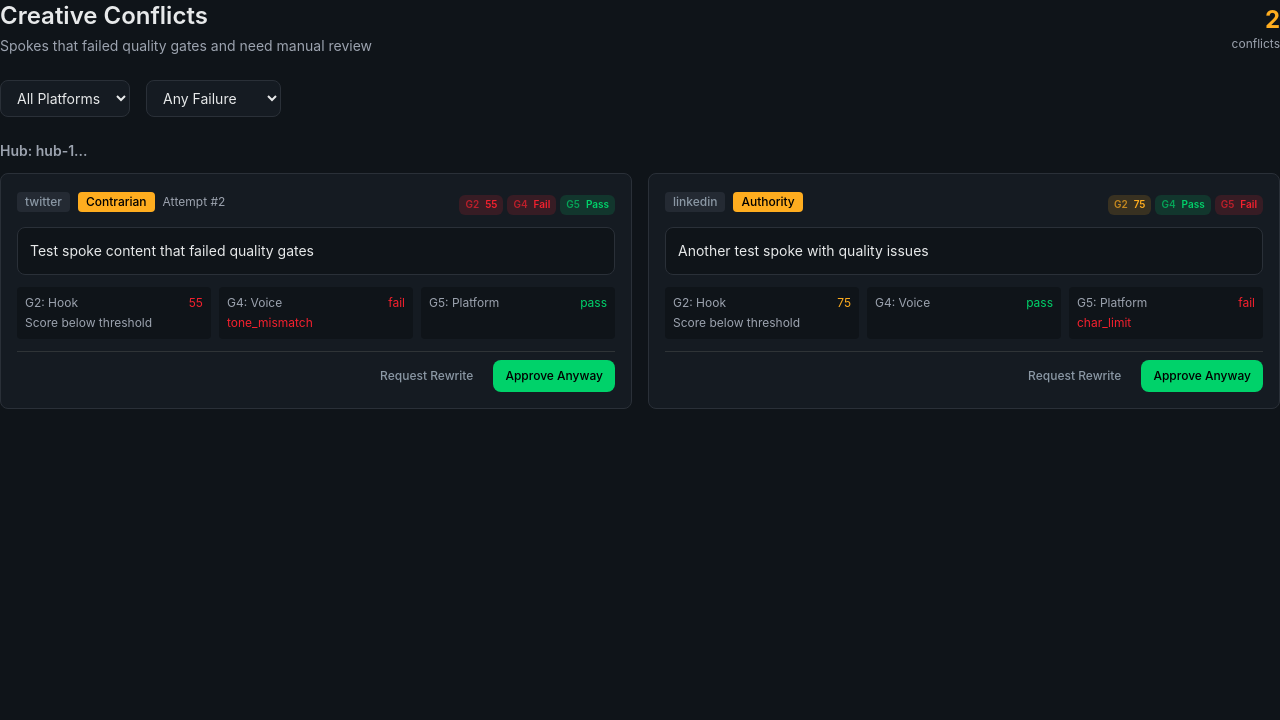
Test: CreativeConflictsPage › Feedback Modal › enables submit when feedback is entered
Click the button "Request Rewrite" below "tone_mismatch" at {"x": 427, "y": 376}, box [368, 360, 485, 392]
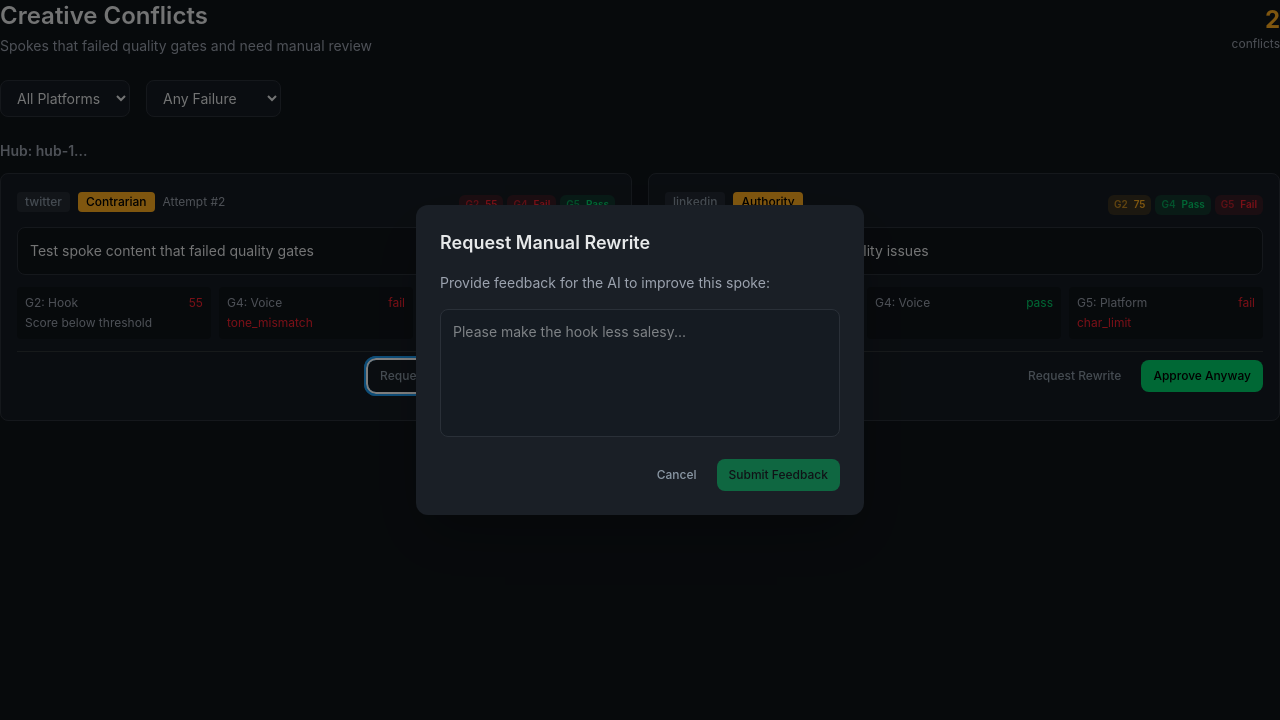
Type "Improve the hook" into the text box with placeholder "Please make the hook less salesy..." at {"x": 640, "y": 373}, box [440, 309, 840, 437]
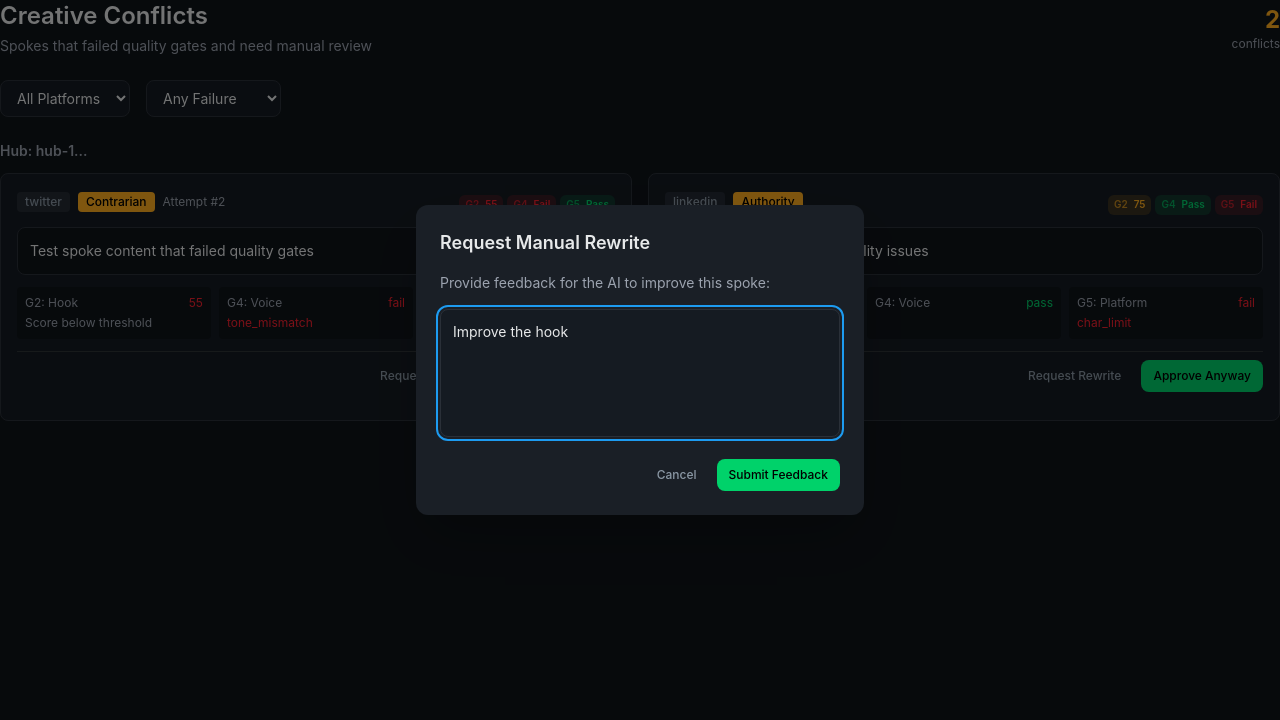
Now the button "Submit Feedback" is enabled, box [716, 459, 840, 491]
